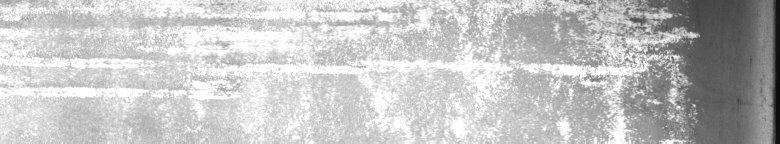hc: (584, 4, 700, 128)
